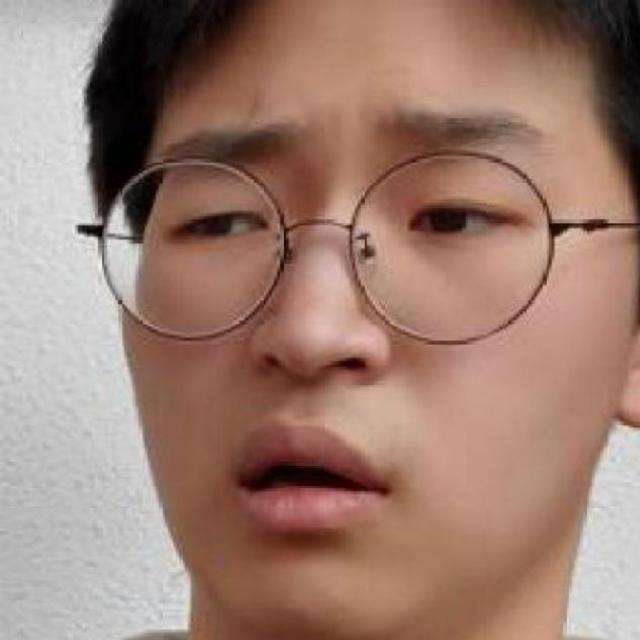Surprised: (33, 65, 630, 612)
